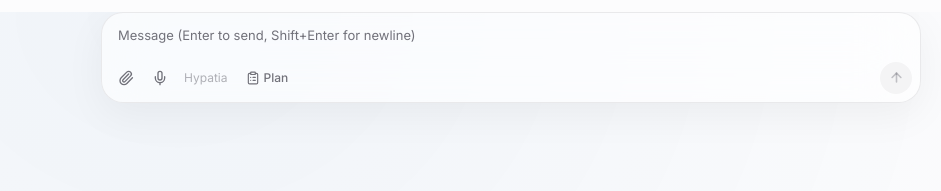
Scenario: MessageInput file picker › shows multiple file chips
Click the button named "Attach files".
click(126, 78)  # box top-left (110, 62), bottom-right (142, 94)
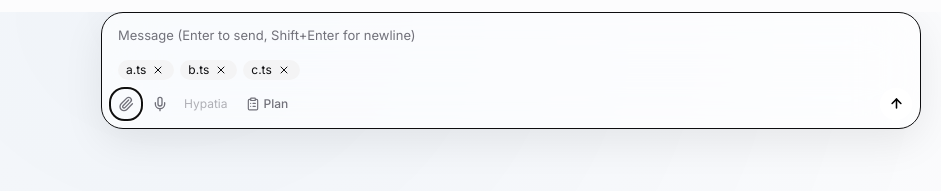
Result: the text "a.ts" is shown at top-left (126, 62), bottom-right (146, 78)
Result: the text "b.ts" is shown at top-left (188, 62), bottom-right (209, 78)
Result: the text "c.ts" is shown at top-left (251, 62), bottom-right (272, 78)
